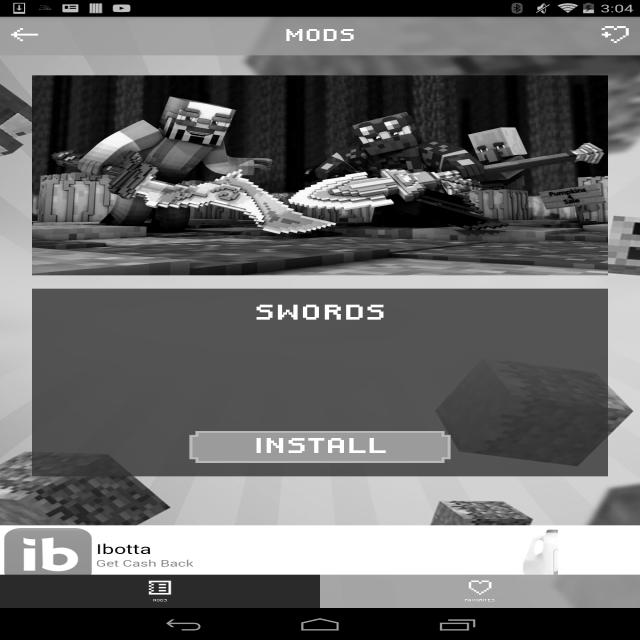Button: (222, 406, 316, 472), (324, 406, 418, 472), (426, 406, 520, 472), (454, 352, 614, 376)
ImageButton: (0, 17, 60, 59)
ImageView: (0, 59, 640, 254), (26, 270, 196, 377), (296, 568, 441, 640), (0, 568, 144, 640), (148, 568, 292, 640), (445, 568, 589, 640), (332, 406, 411, 455), (434, 406, 513, 455), (593, 568, 640, 640), (60, 30, 224, 46), (222, 312, 239, 323), (285, 464, 293, 469)
TextView: (0, 490, 640, 537), (0, 537, 640, 555), (222, 270, 614, 295), (222, 295, 402, 309), (25, 380, 166, 392), (589, 22, 640, 54), (324, 455, 418, 472), (426, 455, 520, 472), (120, 455, 213, 472), (245, 311, 316, 325), (250, 415, 288, 437), (244, 455, 282, 472), (142, 443, 192, 452), (159, 420, 173, 440)
